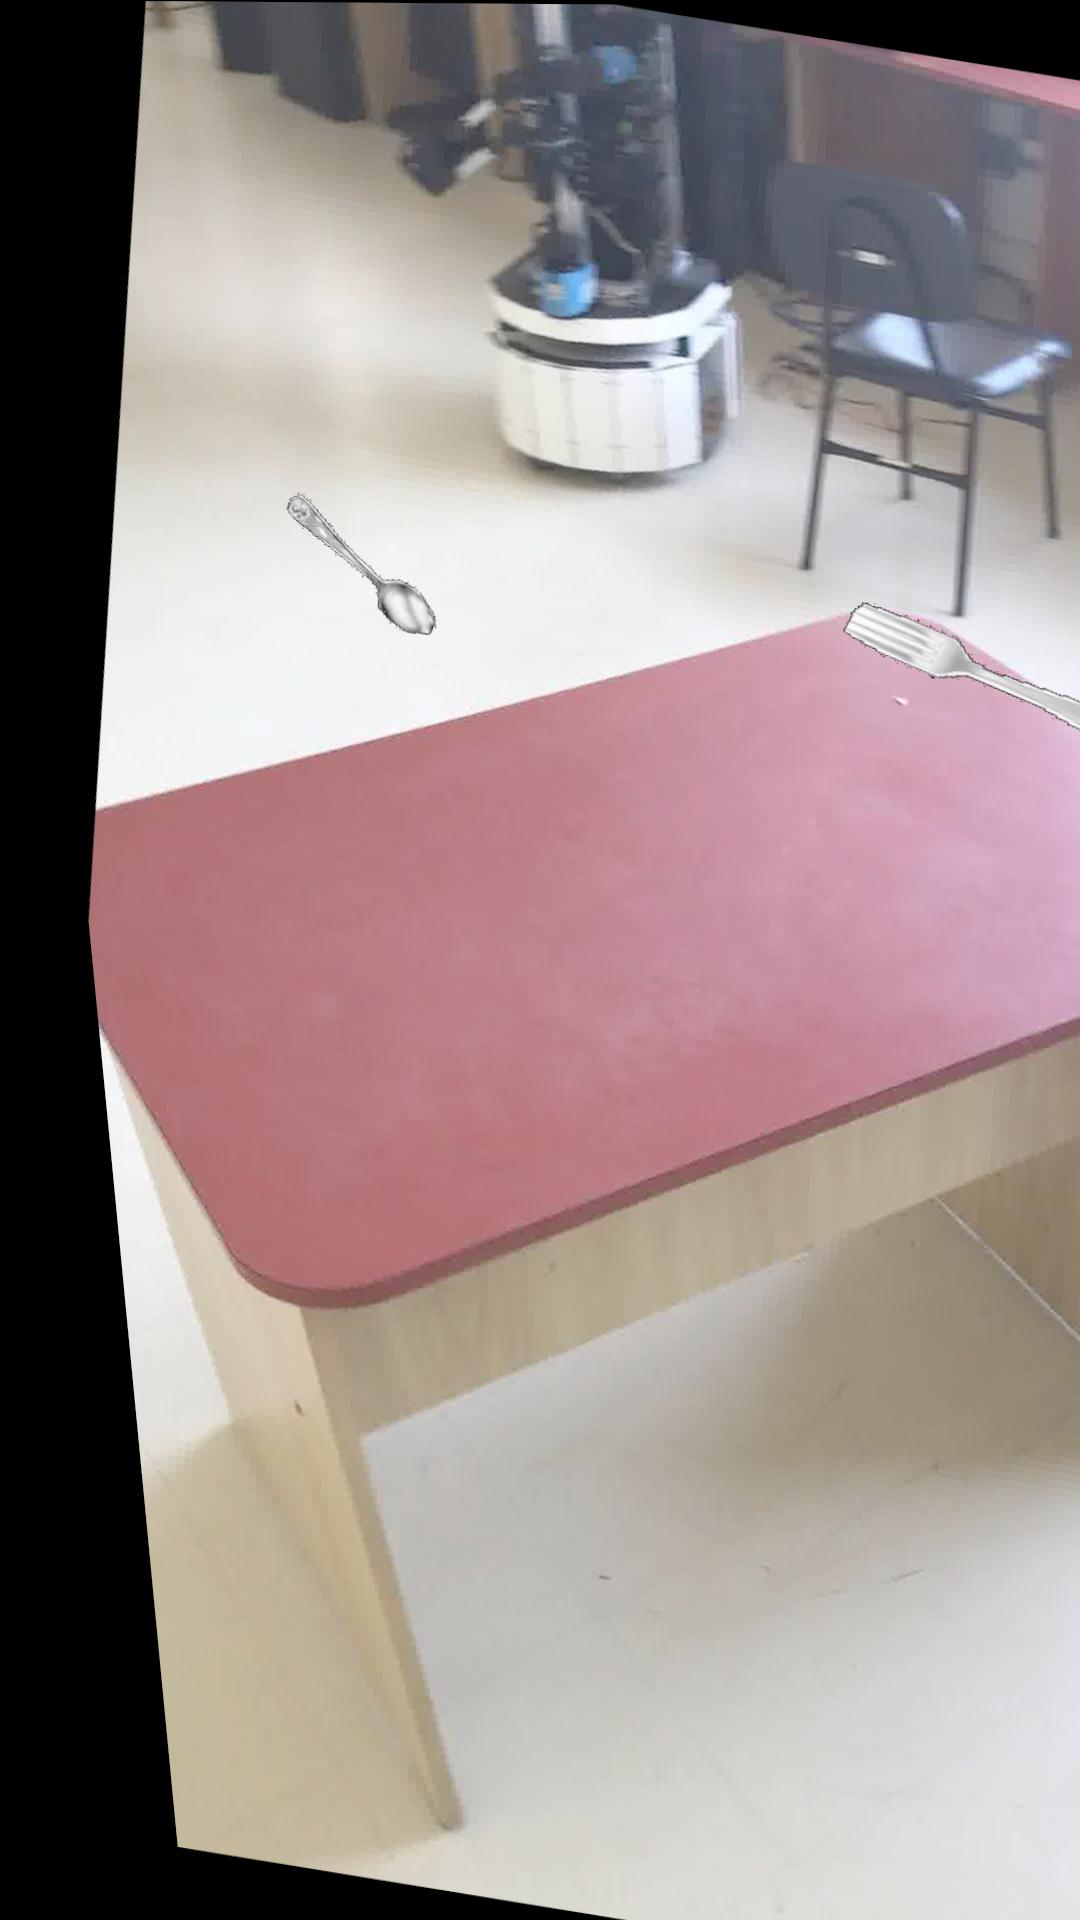fork: (832, 599, 1080, 737)
spoon: (277, 493, 425, 633)
